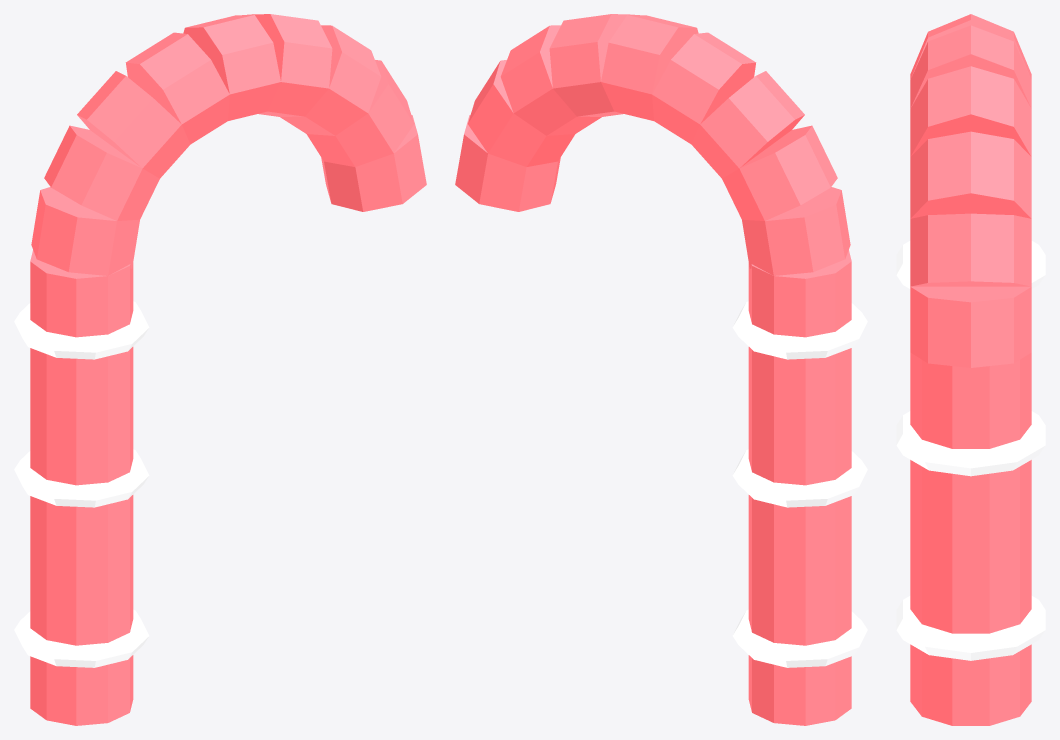
File: xmas_candy_cane.glb
3 views of the same model, side by side, from view 1: azimuth 30°, elevation 25°; view 2: azimuth 150°, elevation 25°; view 3: azimuth 270°, elevation 25° (orthographic). The views are drawn at different scales.
Visible parts, largest first — view 1: CandyCane; view 2: CandyCane; view 3: CandyCane.
Part boxes in pixels (left/top/right/bottom): CandyCane: left=14, top=14, right=426, bottom=725; CandyCane: left=455, top=14, right=867, bottom=725; CandyCane: left=896, top=14, right=1045, bottom=725.
Bounding box in the file's own units: 1.35 × 2.1 × 0.3804.
